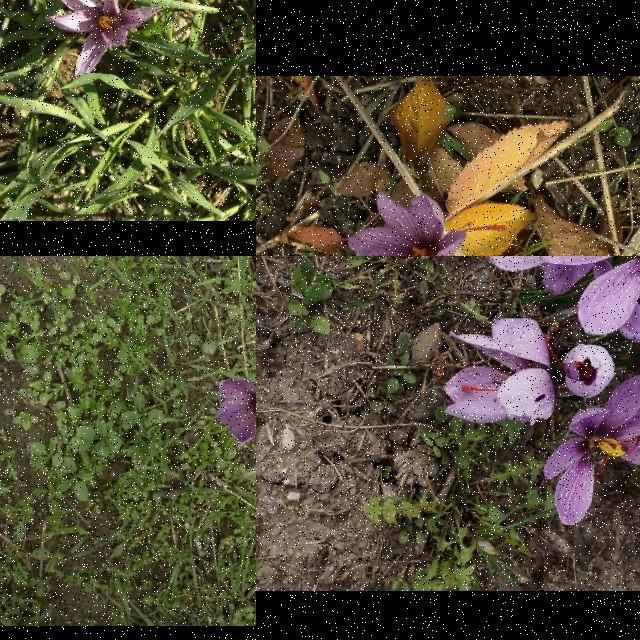flower: (542, 375, 640, 527), (444, 319, 556, 427), (346, 192, 507, 256), (46, 0, 161, 80), (544, 334, 616, 400), (215, 379, 256, 459)
overlap: (488, 256, 640, 511)
